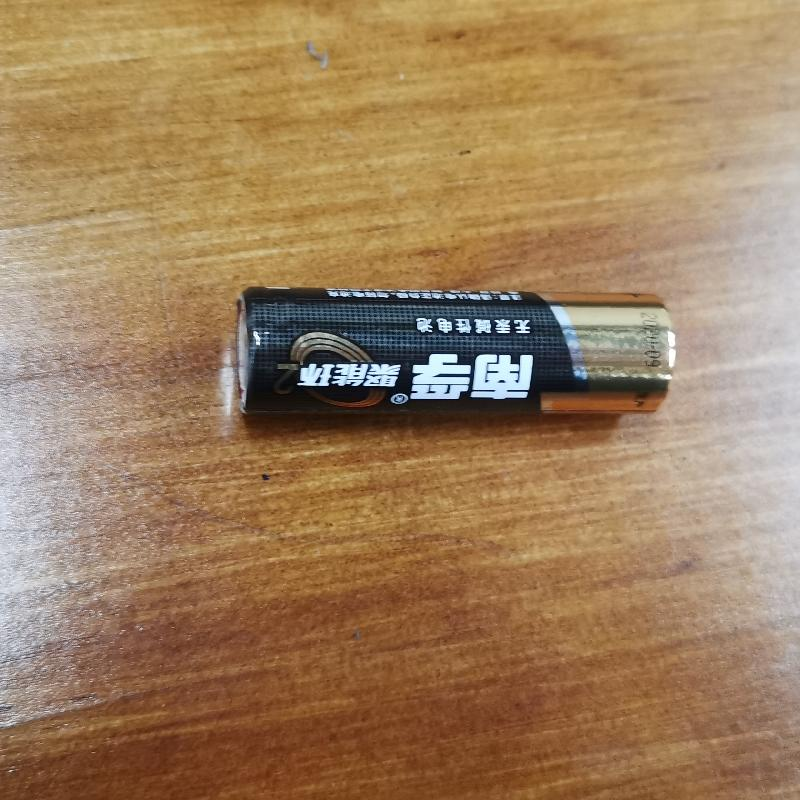battery: (231, 280, 680, 435)
